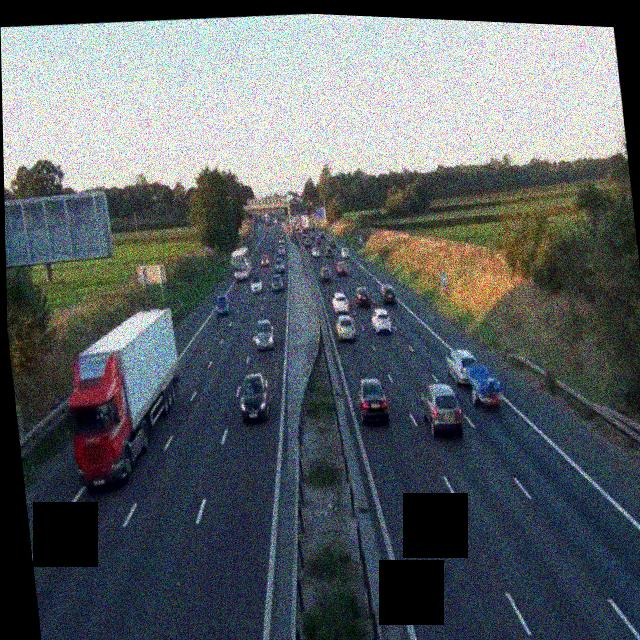bus: (230, 245, 253, 282)
car: (418, 381, 463, 439), (353, 374, 390, 425), (238, 370, 273, 422), (467, 368, 504, 411), (443, 347, 479, 391), (252, 317, 276, 352), (371, 305, 394, 336), (334, 312, 356, 343), (213, 292, 232, 317), (353, 285, 372, 309), (332, 289, 351, 312), (380, 284, 396, 306), (269, 273, 284, 292), (248, 275, 263, 292), (319, 264, 332, 282), (273, 257, 285, 275), (335, 259, 347, 275), (260, 252, 270, 267), (340, 245, 350, 259), (311, 244, 320, 257), (277, 240, 286, 253)
truck: (57, 301, 194, 491)
